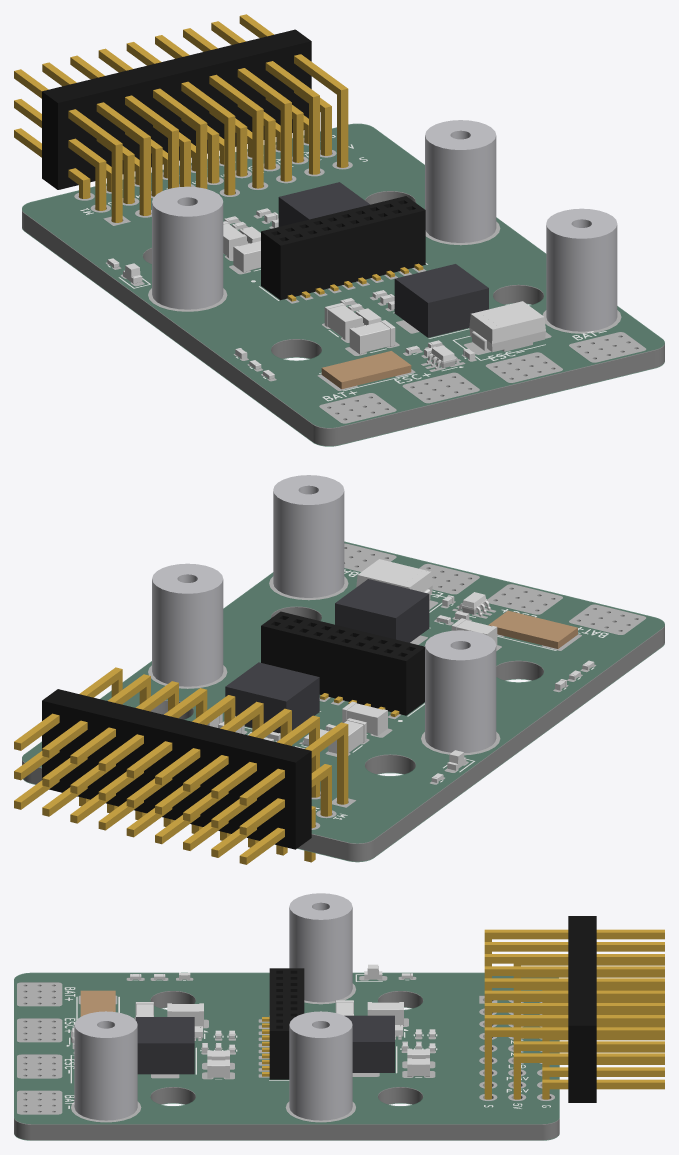
The model's file is lower.glb.
3 renders of one model, top to bottom at view 1: azimuth 30°, elevation 25°; view 2: azimuth 150°, elevation 25°; view 3: azimuth 270°, elevation 25°, orthographic. The views are drawn at different scales.
Visible parts, largest first — view 1: =>[0:1:1:20], =>[0:1:1:18], body (×5), pins, standoff (×3), =>[0:1:1:15], D1, C11, =>[0:1:1:16], C10, =>[0:1:1:19], C21; view 2: body (×5), =>[0:1:1:20], =>[0:1:1:18], standoff (×3), pins, =>[0:1:1:15], D1, C21, C20, =>[0:1:1:16]; view 3: =>[0:1:1:20], =>[0:1:1:18], pins, standoff (×3), body (×5), =>[0:1:1:15], =>[0:1:1:16], =>[0:1:1:19], C20, C10, C15, C25 (+1 smaller).
Part boxes in pixels (x1,y1,x2,y2): =>[0:1:1:20]: [22, 124, 664, 445]; =>[0:1:1:18]: [22, 123, 664, 427]; body (×5): [42, 29, 488, 389]; pins: [14, 14, 348, 222]; standoff (×3): [152, 120, 617, 331]; =>[0:1:1:15]: [74, 138, 646, 423]; D1: [469, 301, 545, 352]; C11: [349, 320, 395, 354]; =>[0:1:1:16]: [80, 135, 606, 401]; C10: [324, 303, 362, 340]; =>[0:1:1:19]: [22, 228, 664, 446]; C21: [233, 241, 260, 272]; body (×5): [42, 579, 577, 849]; =>[0:1:1:20]: [22, 543, 664, 861]; =>[0:1:1:18]: [22, 541, 664, 843]; standoff (×3): [152, 475, 496, 752]; pins: [14, 667, 348, 864]; =>[0:1:1:15]: [148, 543, 645, 829]; D1: [356, 559, 432, 599]; C21: [342, 701, 387, 735]; C20: [328, 718, 366, 753]; =>[0:1:1:16]: [244, 569, 608, 819]; =>[0:1:1:20]: [14, 974, 559, 1140]; =>[0:1:1:18]: [14, 972, 559, 1124]; pins: [484, 929, 664, 1099]; standoff (×3): [74, 893, 352, 1120]; body (×5): [80, 916, 596, 1102]; =>[0:1:1:15]: [17, 976, 554, 1122]; =>[0:1:1:16]: [64, 974, 550, 1108]; =>[0:1:1:19]: [14, 1007, 559, 1140]; C20: [367, 1002, 403, 1025]; C10: [167, 1003, 203, 1027]; C15: [207, 1059, 229, 1078]; C25: [407, 1058, 429, 1076].
Bounding box in the file's own units: 0.0315 × 0.011 × 0.0573.
